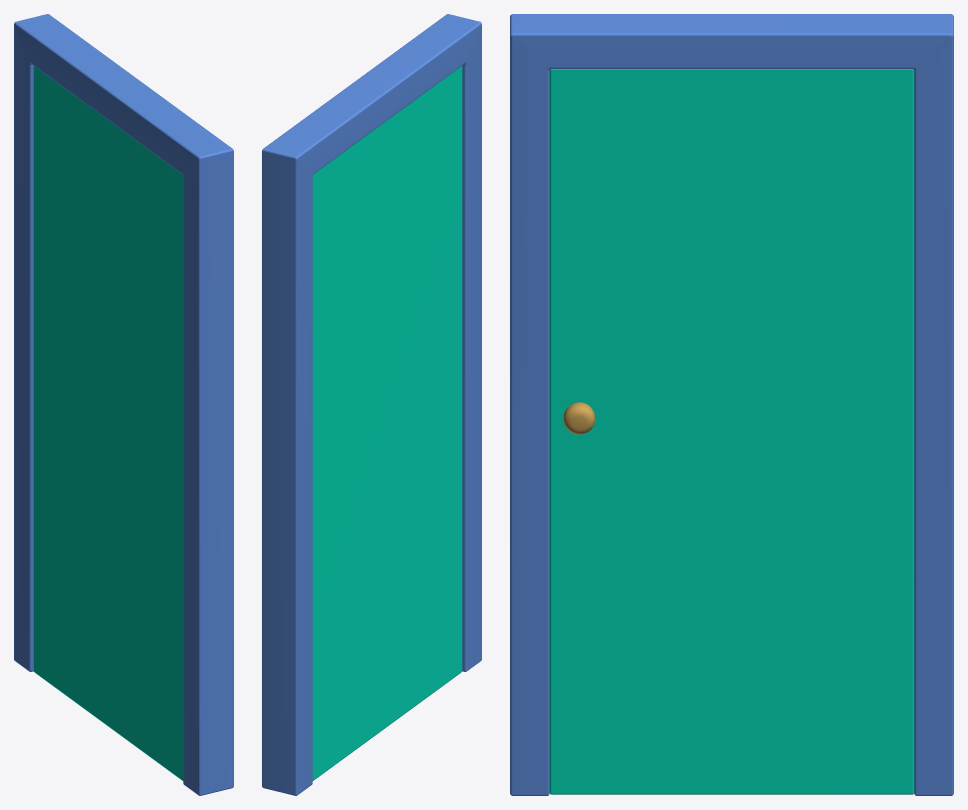
File: men.fbx
The picture shows the model from 3 angles, left to right: view 1: azimuth 30°, elevation 25°; view 2: azimuth 150°, elevation 25°; view 3: azimuth 270°, elevation 25°; orthographic projection. The views are drawn at different scales.
Visible parts, largest first — view 1: pasted__men, pasted__menkaung; view 2: pasted__men, pasted__menkaung; view 3: pasted__men, pasted__menkaung.
Boxes of the visible parts, x1=… form: pasted__men: x1=33, y1=66, x2=183, y2=780; pasted__menkaung: x1=14, y1=14, x2=233, y2=795; pasted__men: x1=312, y1=66, x2=462, y2=780; pasted__menkaung: x1=262, y1=14, x2=481, y2=795; pasted__men: x1=549, y1=69, x2=914, y2=794; pasted__menkaung: x1=510, y1=14, x2=953, y2=795.
Bounding box in the file's own units: 0.1937 × 2.31 × 1.22.
